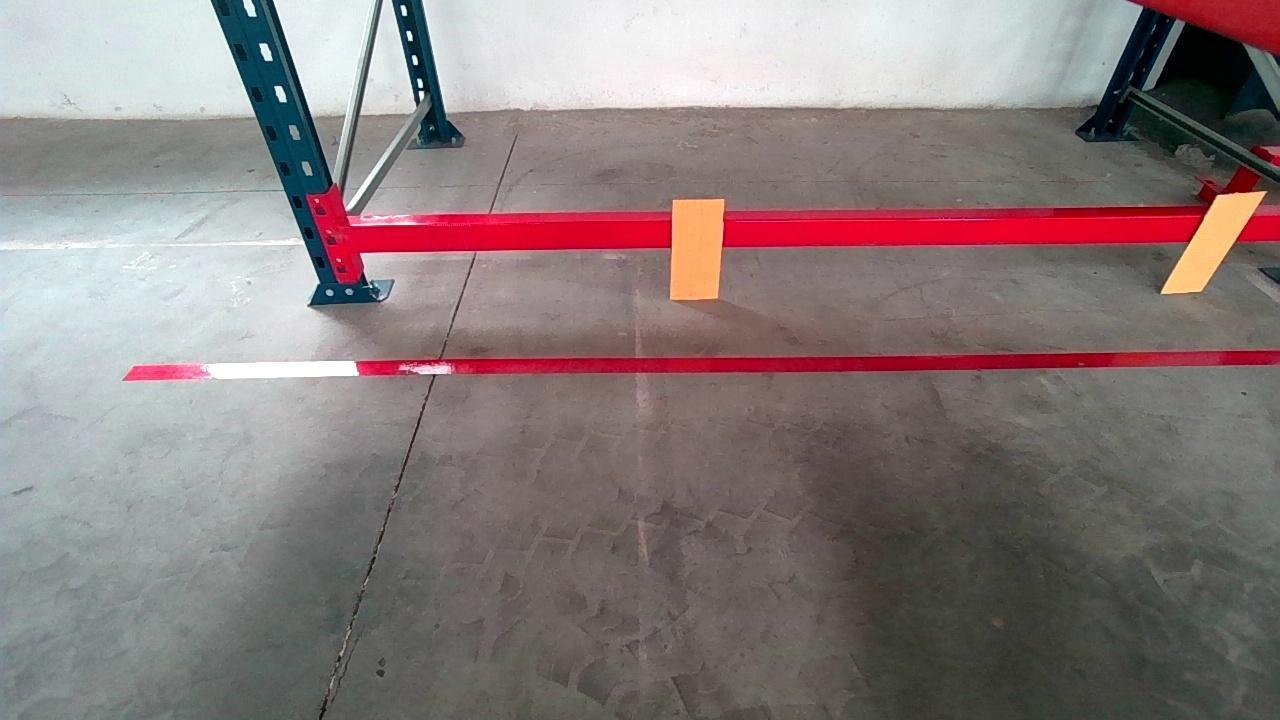h_rack: (335, 211, 1280, 249)
orange_strip: (1164, 193, 1264, 290), (671, 198, 724, 297)
red_line: (116, 344, 1280, 376)
